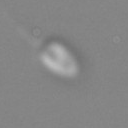normal: (1, 1, 43, 47)
